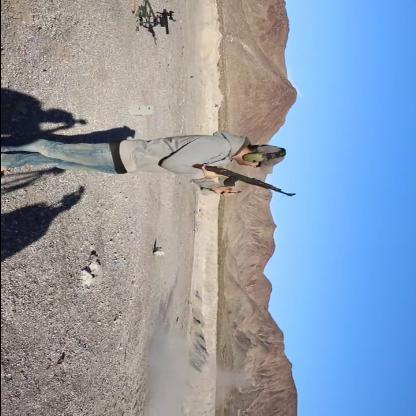long weapon: (175, 162, 303, 204)
